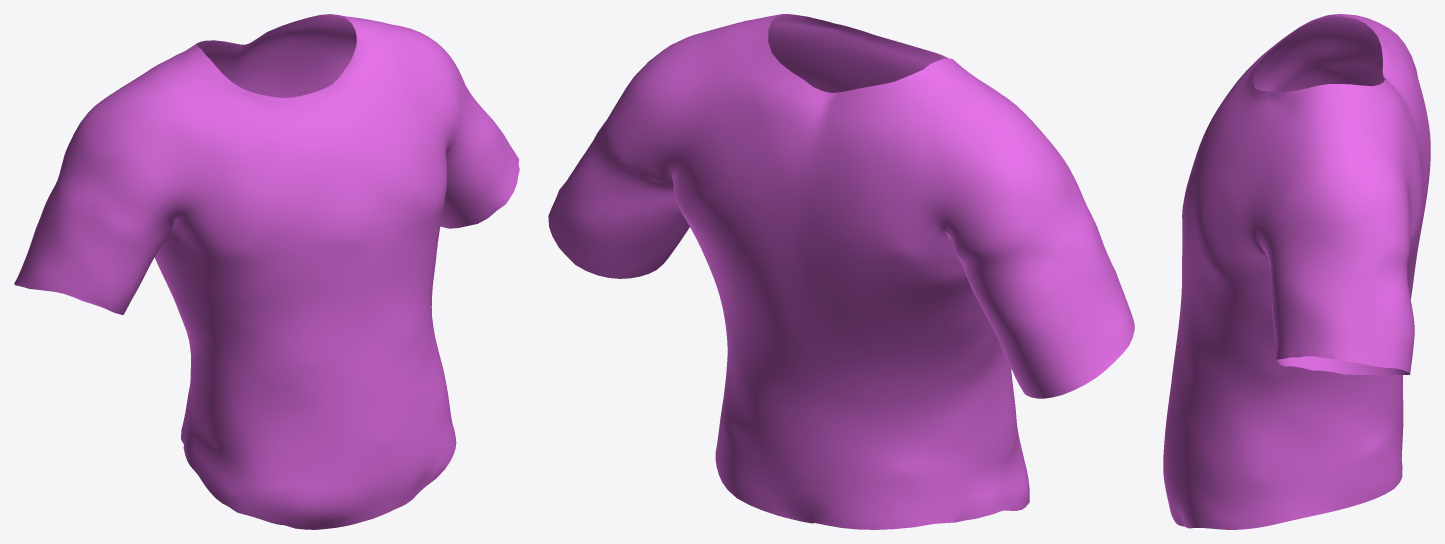
The model's file is New-Male-Medium-Tshirt.glb.
The picture shows the model from 3 angles, left to right: view 1: azimuth 30°, elevation 25°; view 2: azimuth 150°, elevation 25°; view 3: azimuth 270°, elevation 25°; orthographic projection. The views are drawn at different scales.
Visible parts, largest first — view 1: Group1.011; view 2: Group1.011; view 3: Group1.011.
Boxes of the visible parts, x1,y1,x2,y2 form: Group1.011: (14,14,519,529); Group1.011: (548,14,1134,529); Group1.011: (1163,14,1430,529).
Size of the model in its own units: 1.43 by 1.23 by 0.6563.
